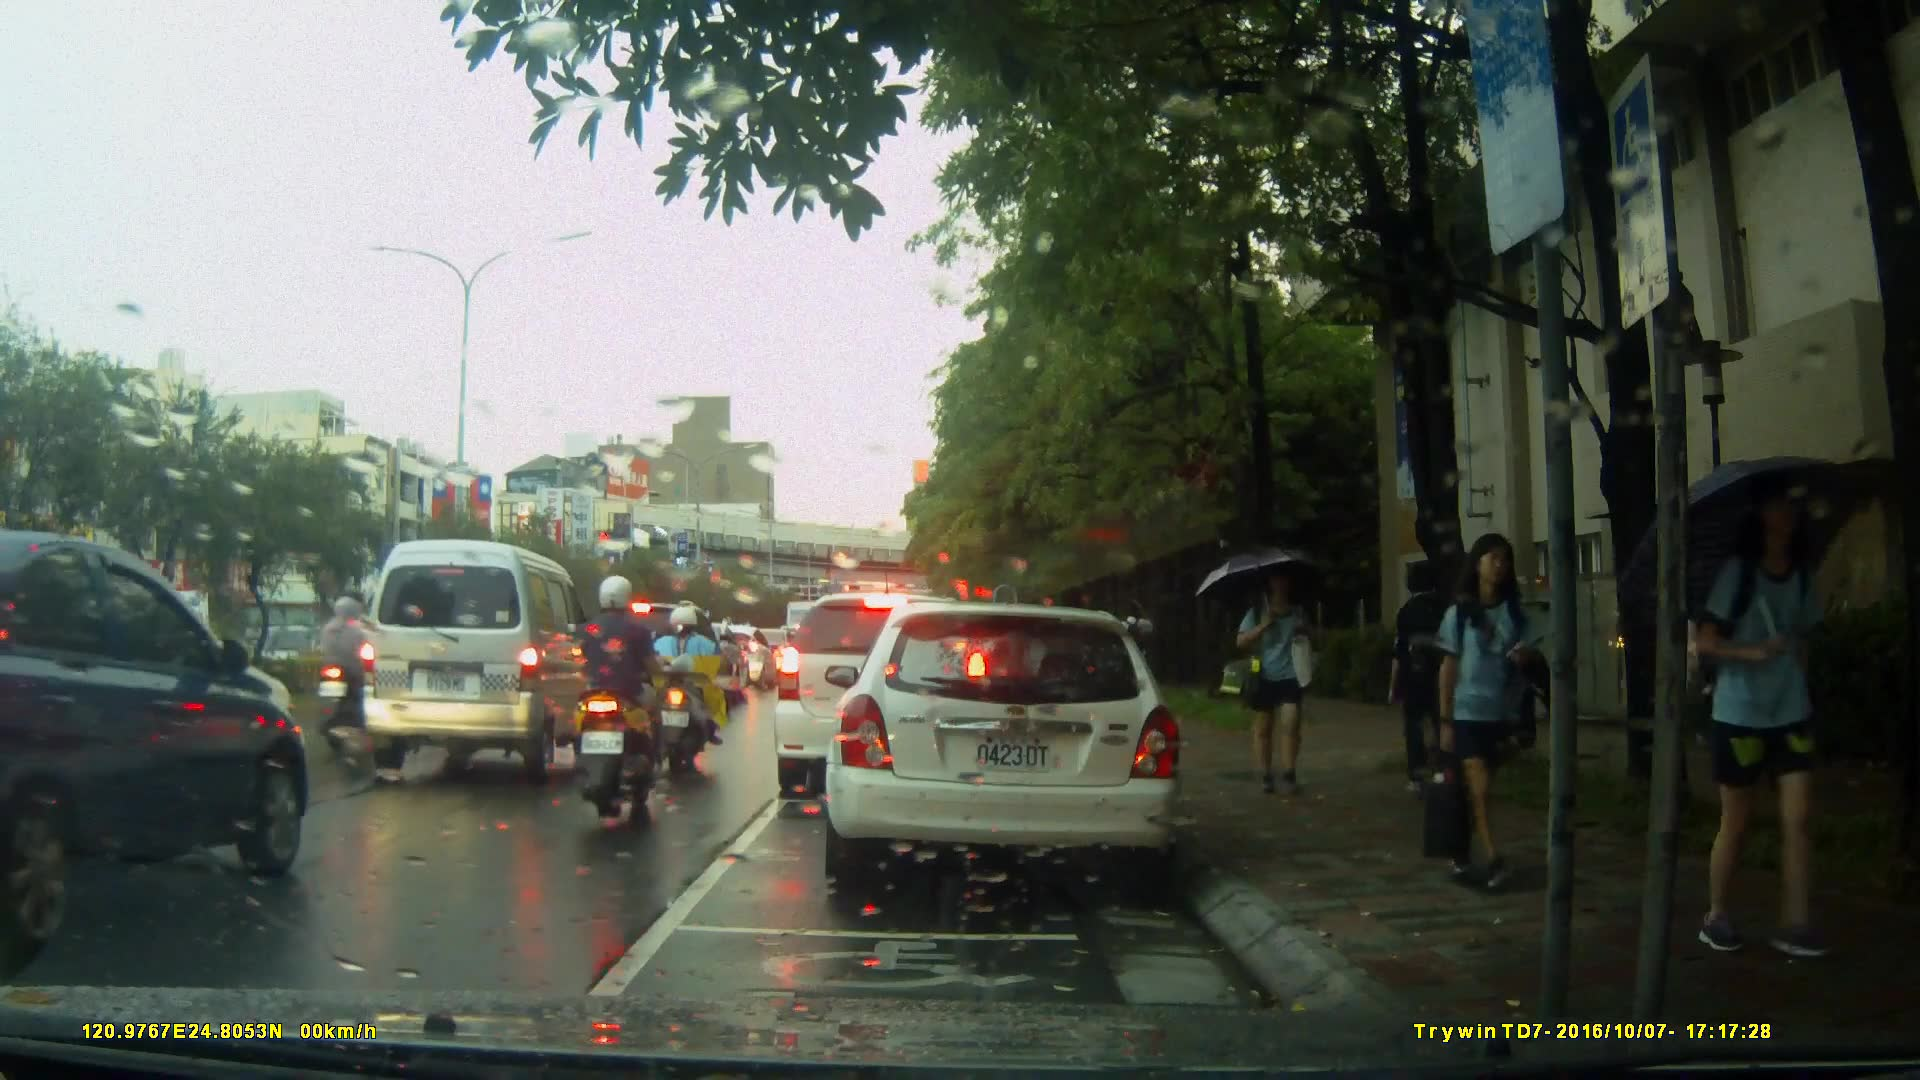pedestrian: (1691, 472, 1857, 984), (1425, 520, 1550, 912), (1387, 558, 1474, 808), (1233, 562, 1323, 803)
rider: (592, 575, 677, 817), (645, 605, 726, 775), (312, 578, 394, 748)
vehicle: (4, 523, 315, 957), (815, 593, 1204, 909), (352, 537, 594, 785), (770, 590, 993, 802), (581, 603, 737, 725)
